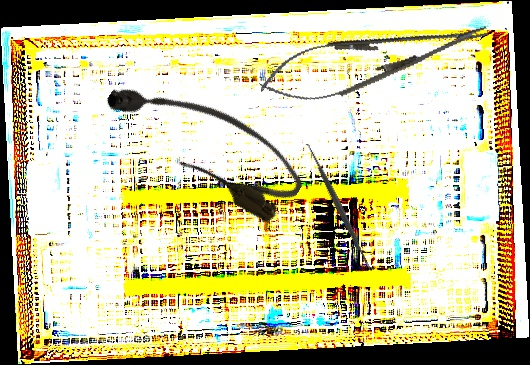Cannula: (96, 52, 315, 230)
Needle Holder: (253, 4, 495, 116)
Spatula Surgical: (300, 139, 379, 275)
